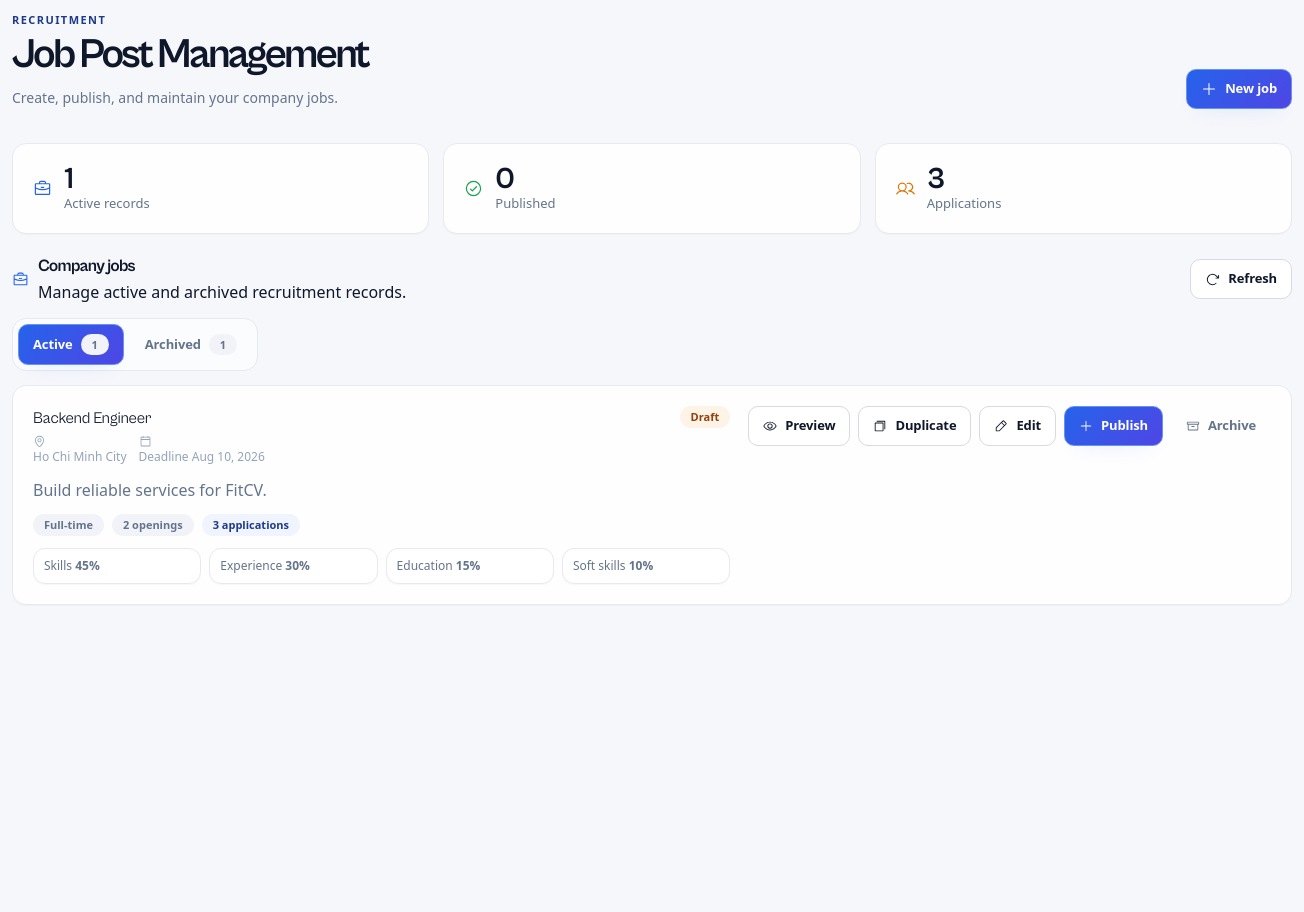
Test: JobPostsScreen › publishes and closes a job without reloading the list
The width and height of the screenshot is (1304, 912).
Expected: the heading "Backend Engineer" is shown, [33,409,151,427]
Click the button "Publish": (1114, 426) [1064,406,1163,446]
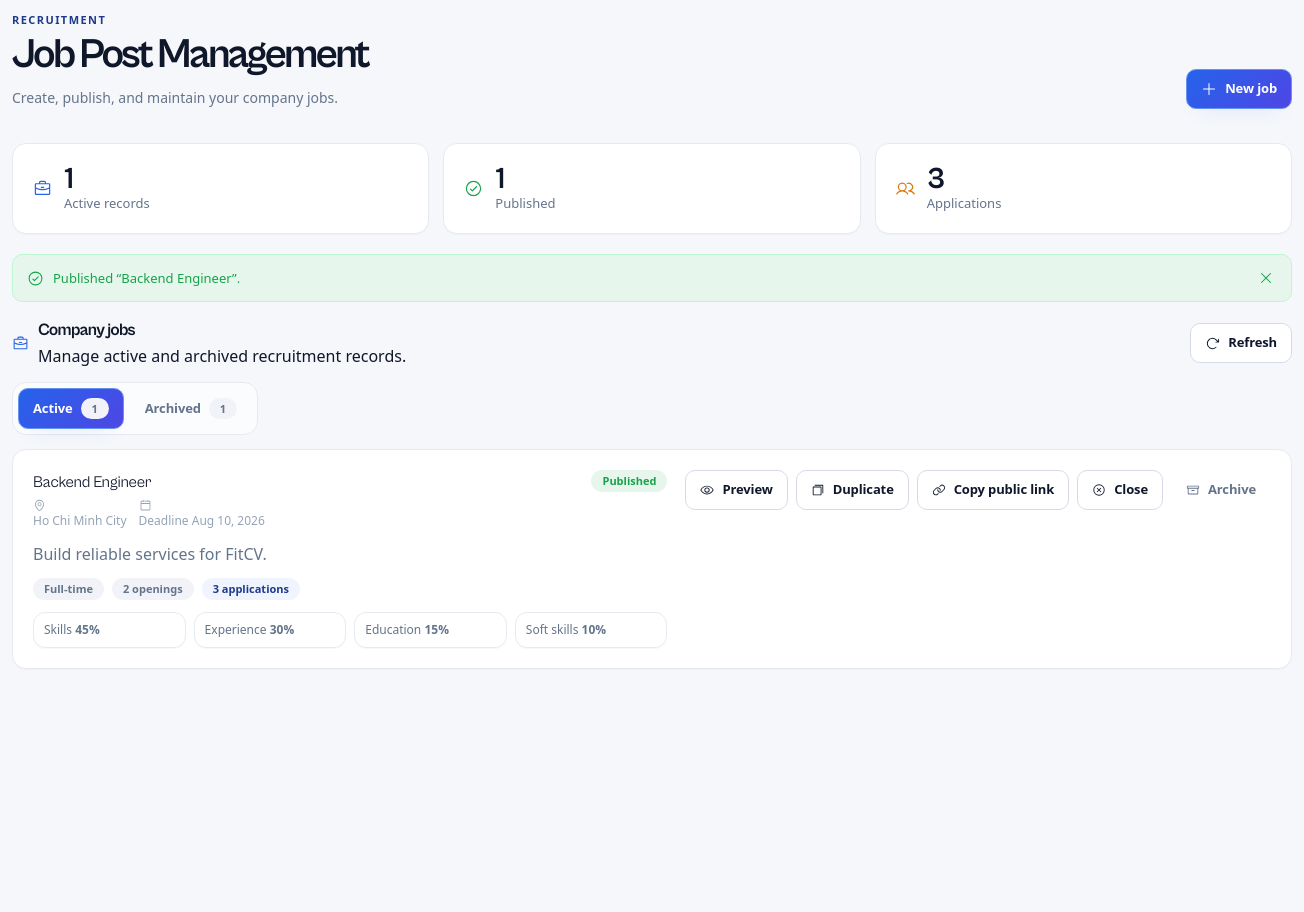
Expected: the button "Close" is shown
Click the button "Close": (1120, 490) [1077,470,1163,510]
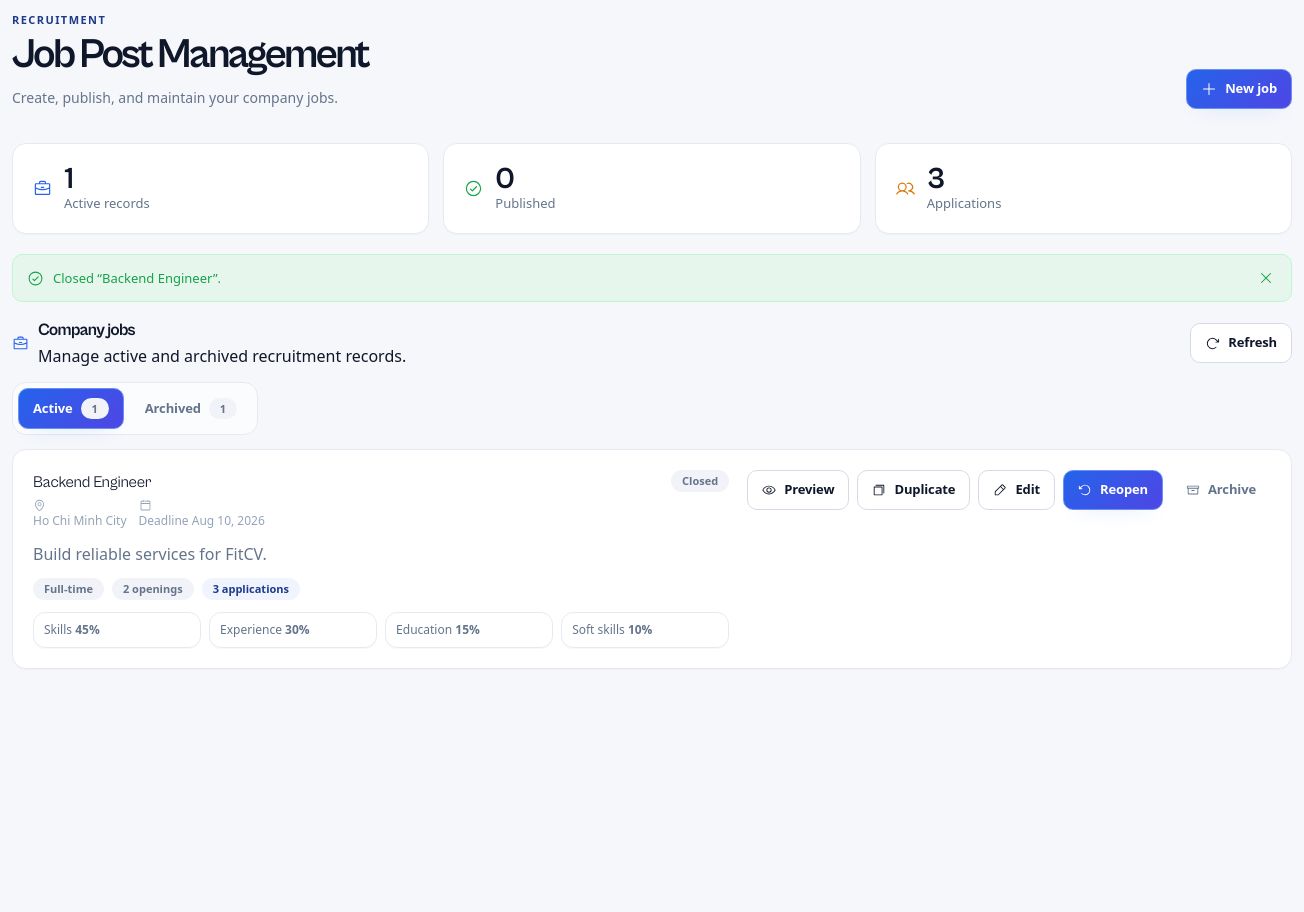
Expected: the button "Reopen" is shown, [1063,470,1163,510]
